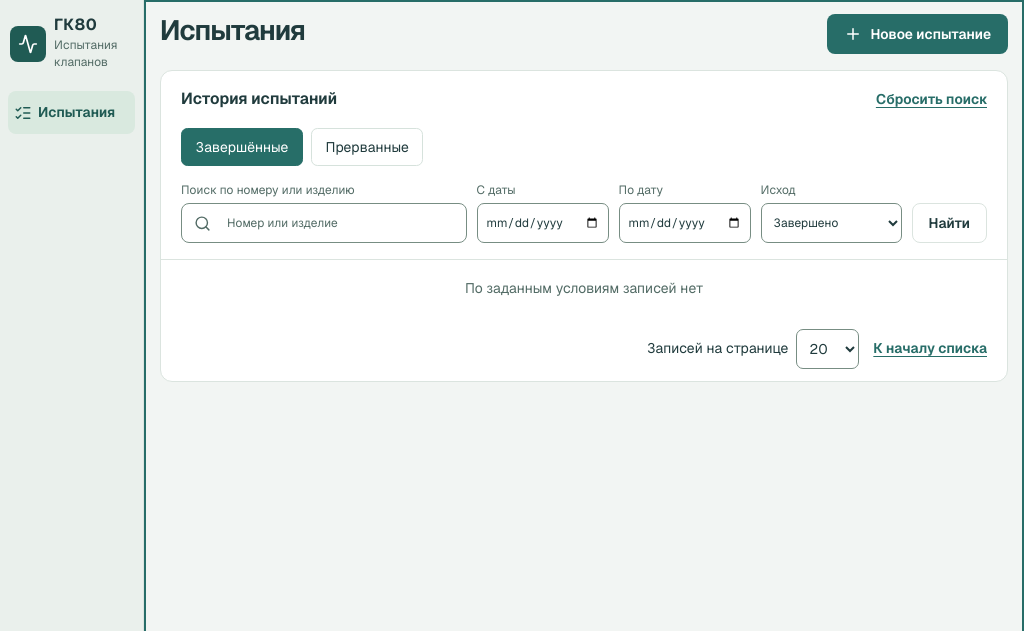
Test case: preserves the live form when diagnostics degrade
Click the button "Новое испытание": (918, 34) [827, 14, 1008, 54]
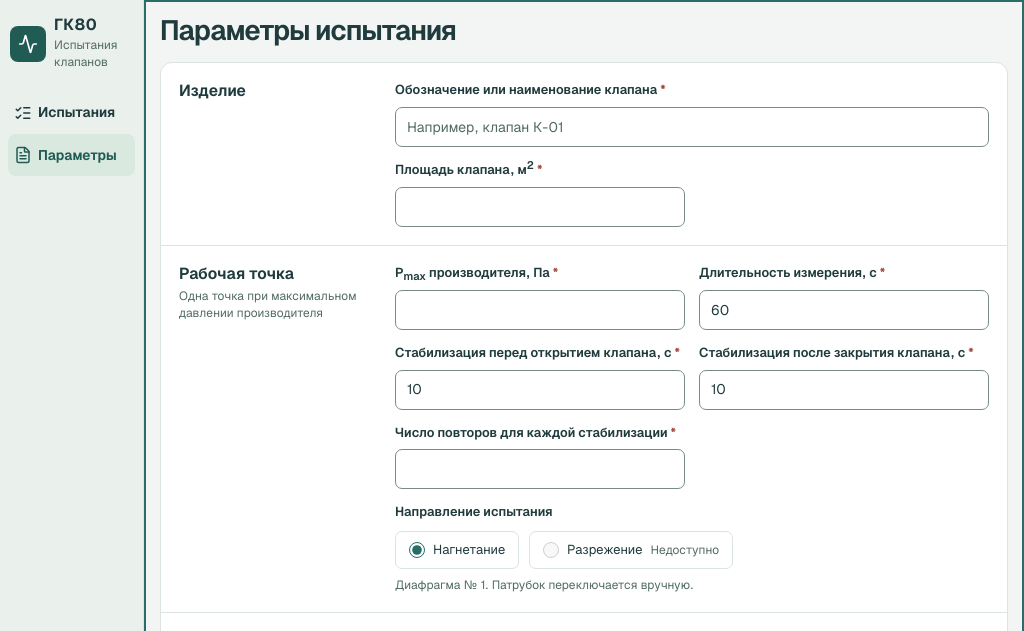
In the field labelled "Обозначение или наименование клапана": (692, 127) [395, 107, 989, 147], type "Клапан"
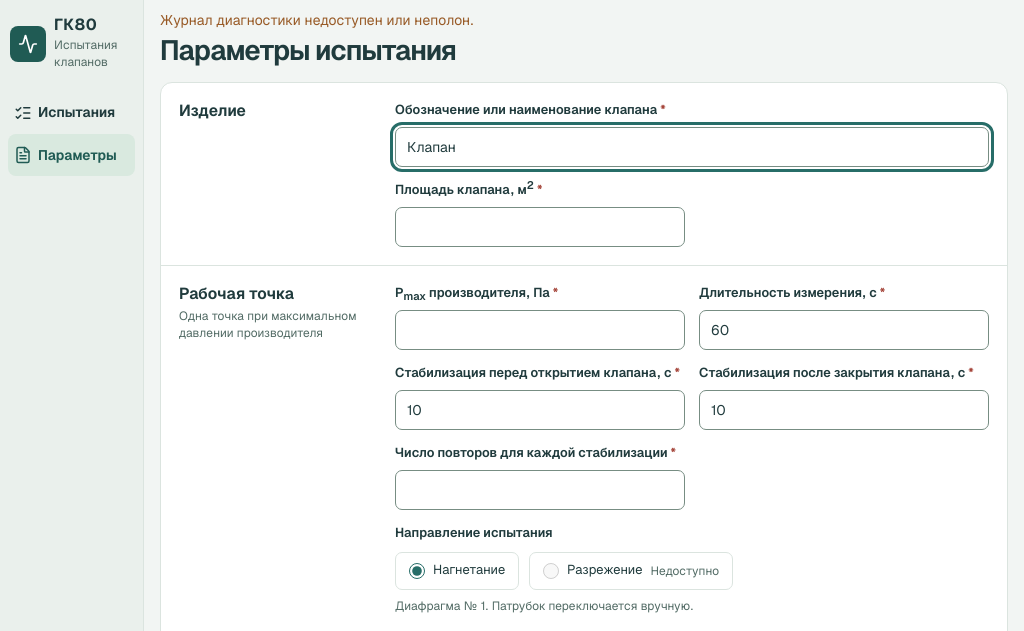
Result: the text "Журнал диагностики недоступен или неполон." is shown at [160, 11, 474, 29]
